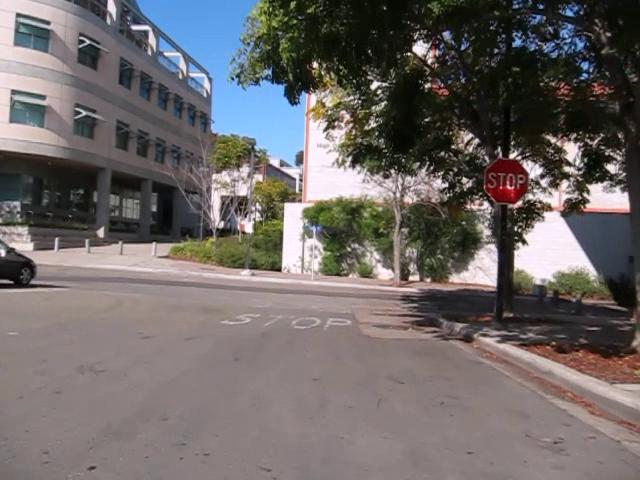stop: (483, 157, 529, 205)
